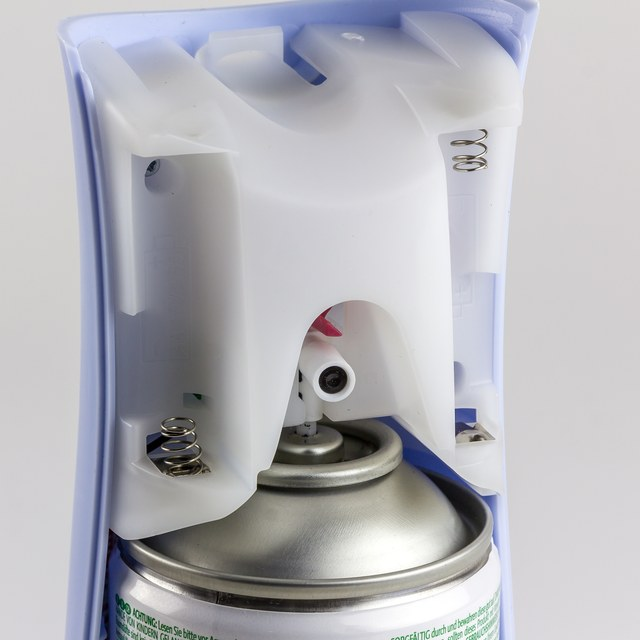Dettol Floor Cleaner: (32, 32, 608, 608)
